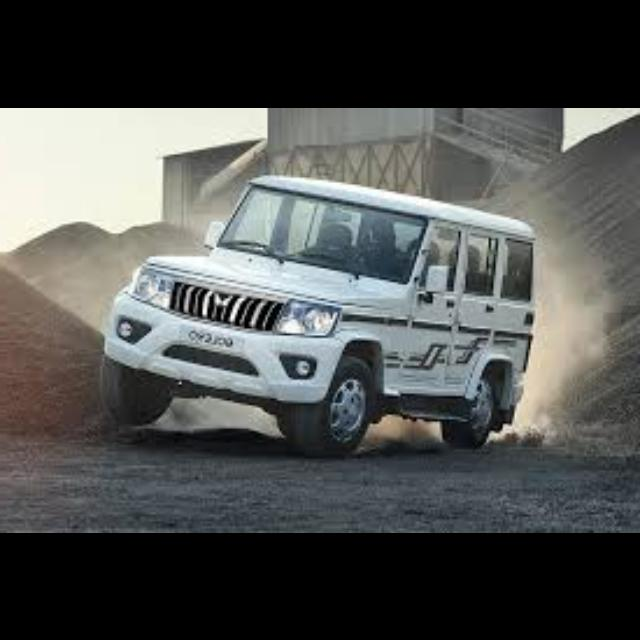vehicles: (100, 175, 538, 452)
